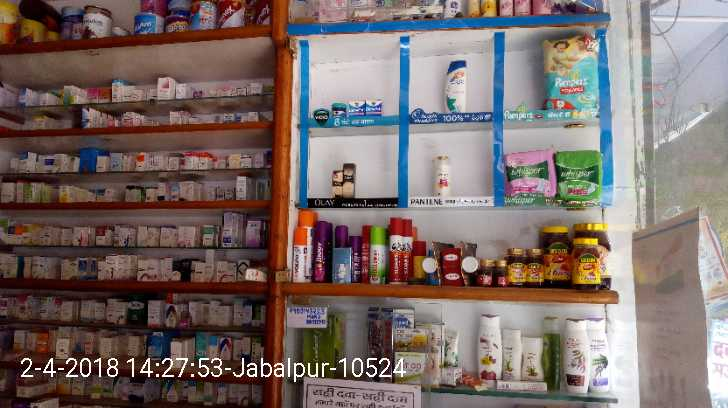vicks: (365, 97, 384, 119), (348, 101, 365, 119), (332, 101, 348, 120)
